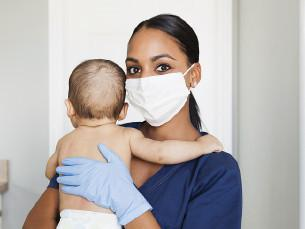OK: (124, 52, 198, 126)
